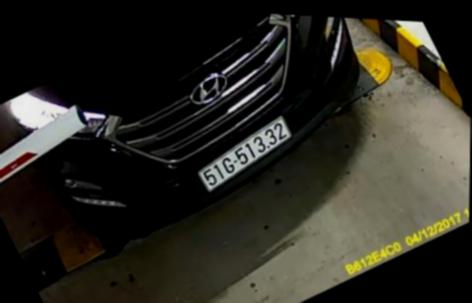License_Plate: (193, 111, 298, 198)
